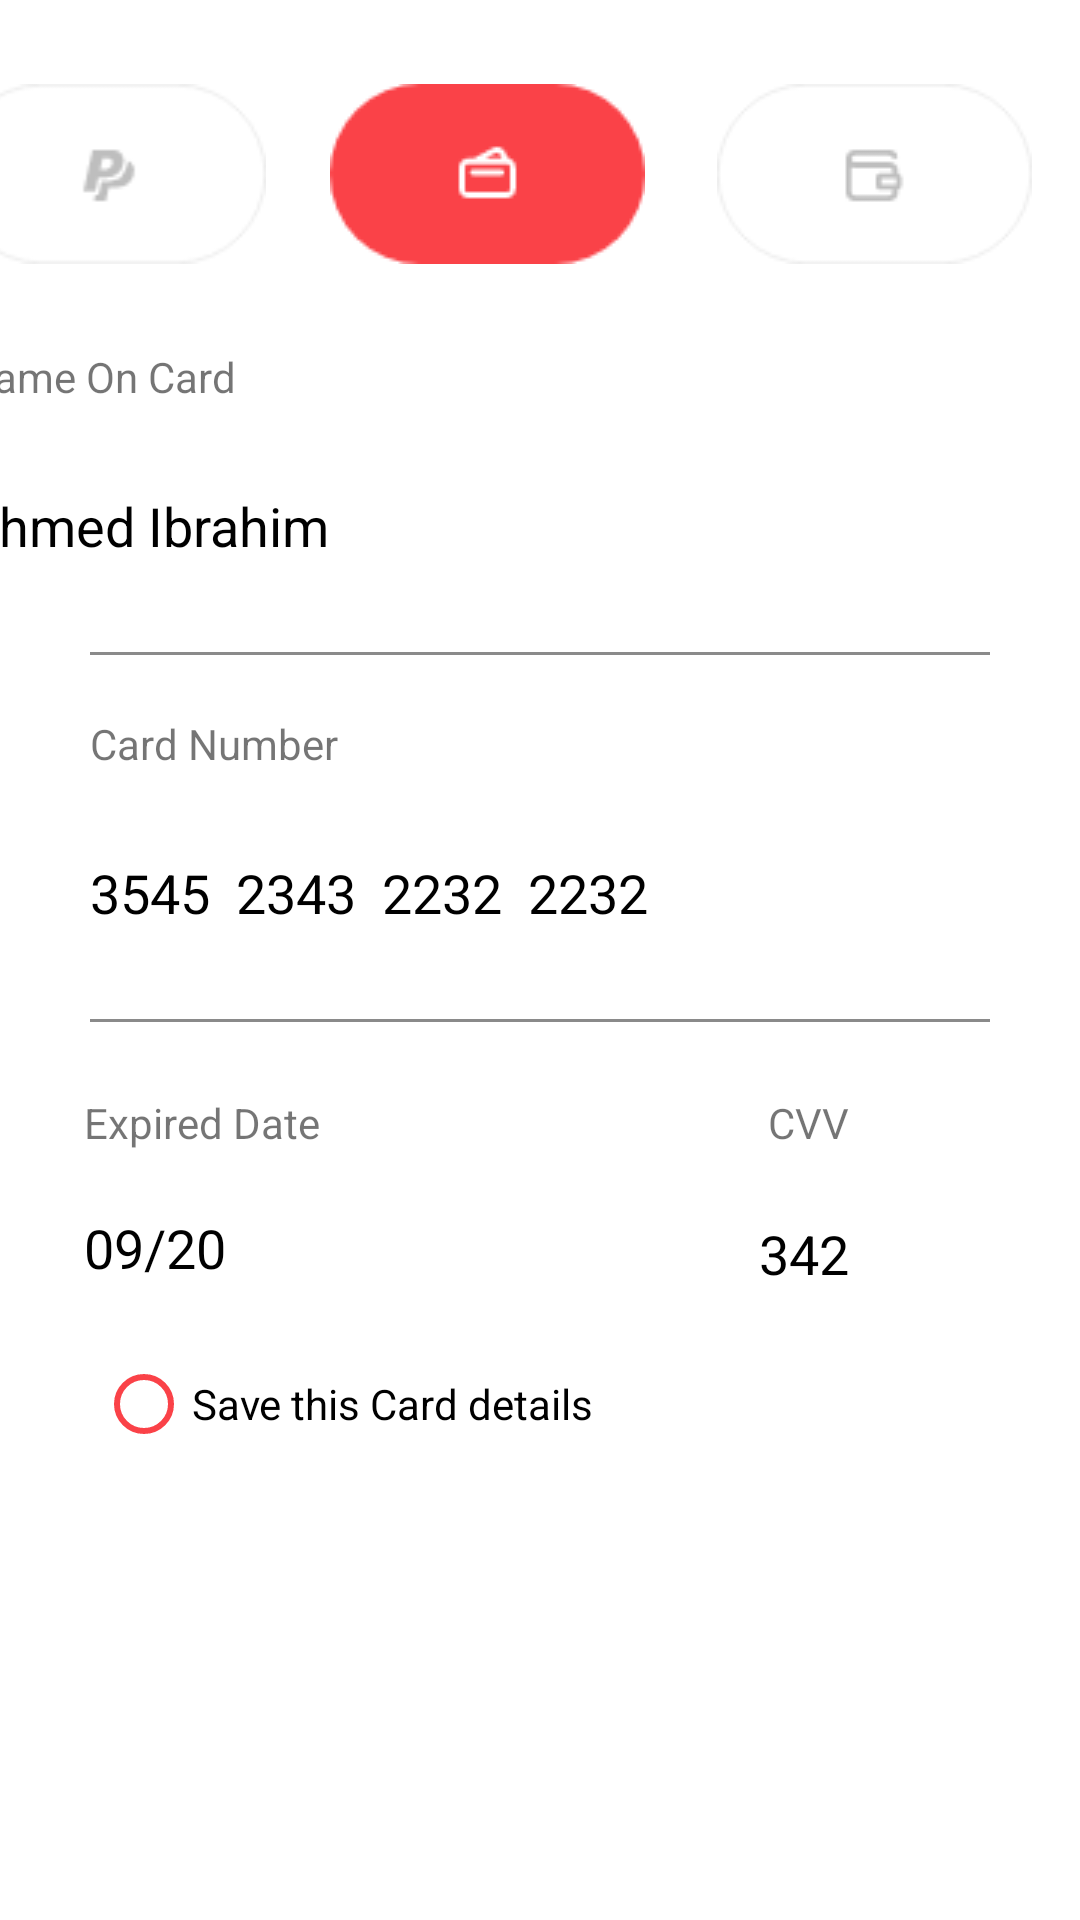

Named icons in this screenshot (1080*1920) and their centers, (x=x, y=y):
creditcard: (x=487, y=174)
saved card: (x=874, y=175)
